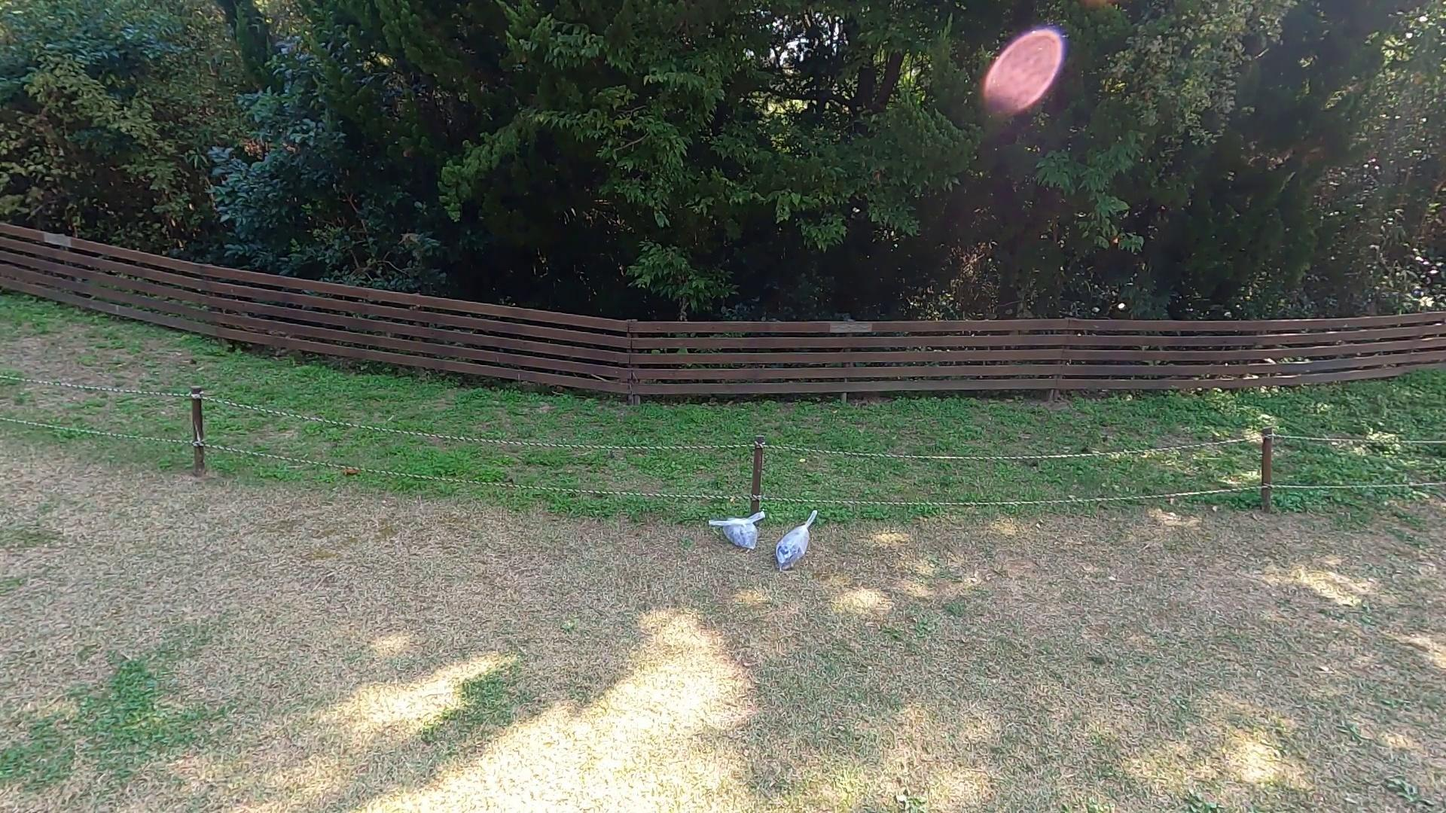trash: (777, 505, 822, 570), (710, 506, 767, 553)
